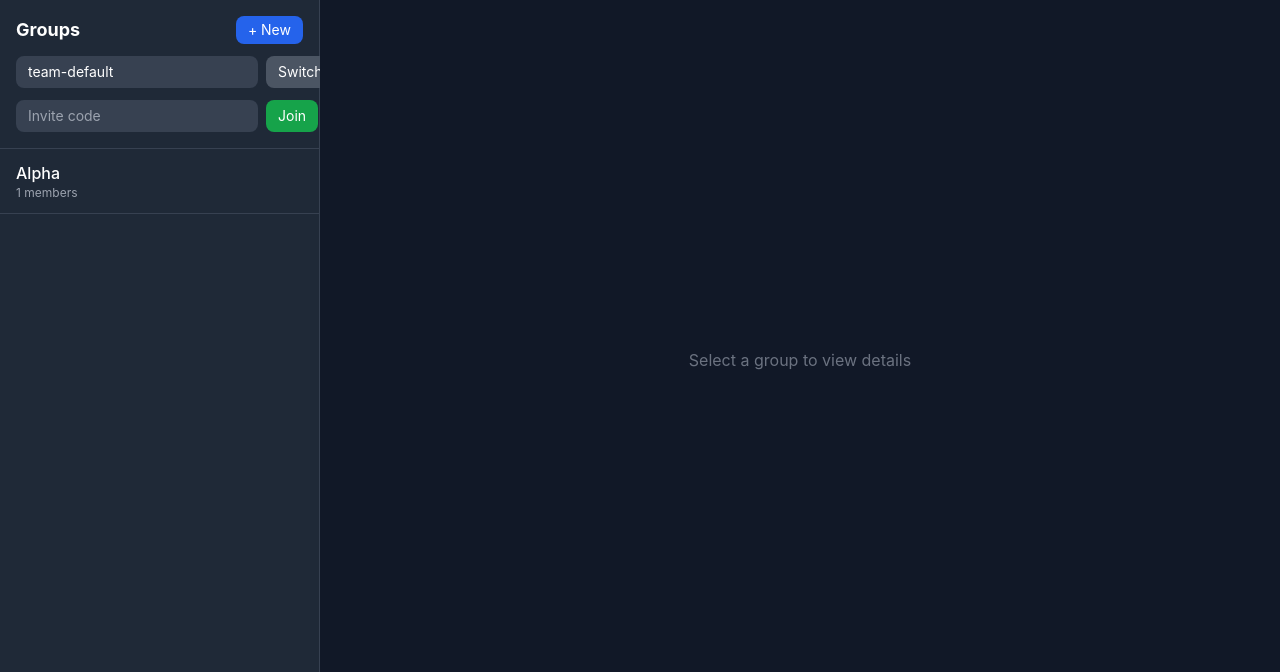
Scenario: G023: Group Management Page › TC-G023-004: selects group and generates invite
Click the text "Alpha" at (38, 173), box [16,163,60,183]
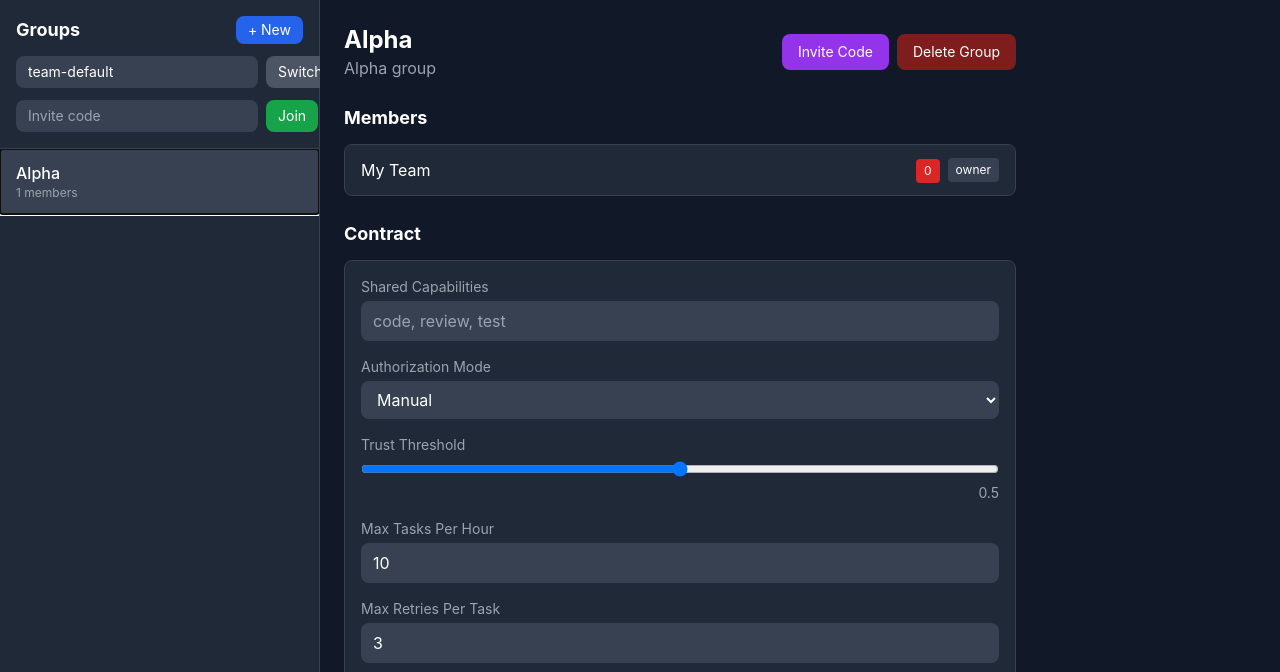
Result: the button "Invite Code" is shown
Click the button "Invite Code" at (835, 52), box [782,34,889,70]
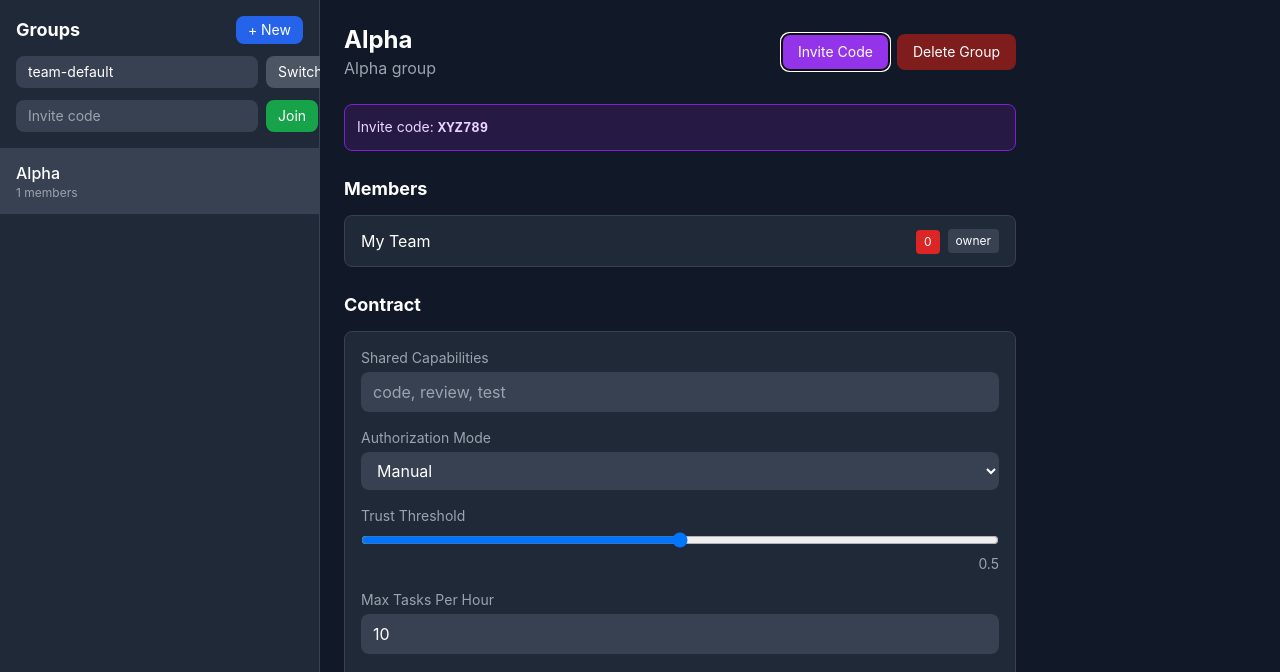
Result: the text "XYZ789" is shown at [438,120,488,136]
